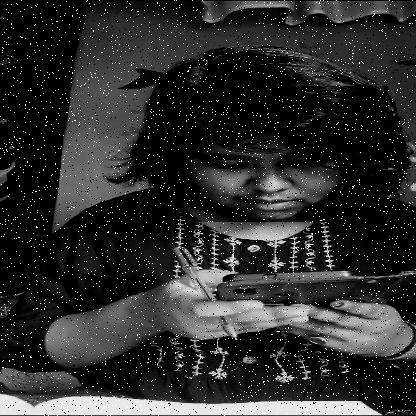Normal: (159, 86, 388, 222)
